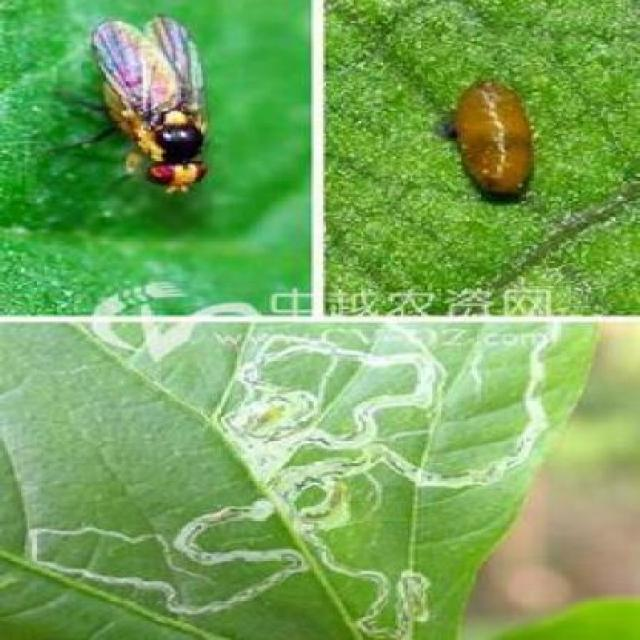whorl-maggot: (439, 66, 543, 211)
